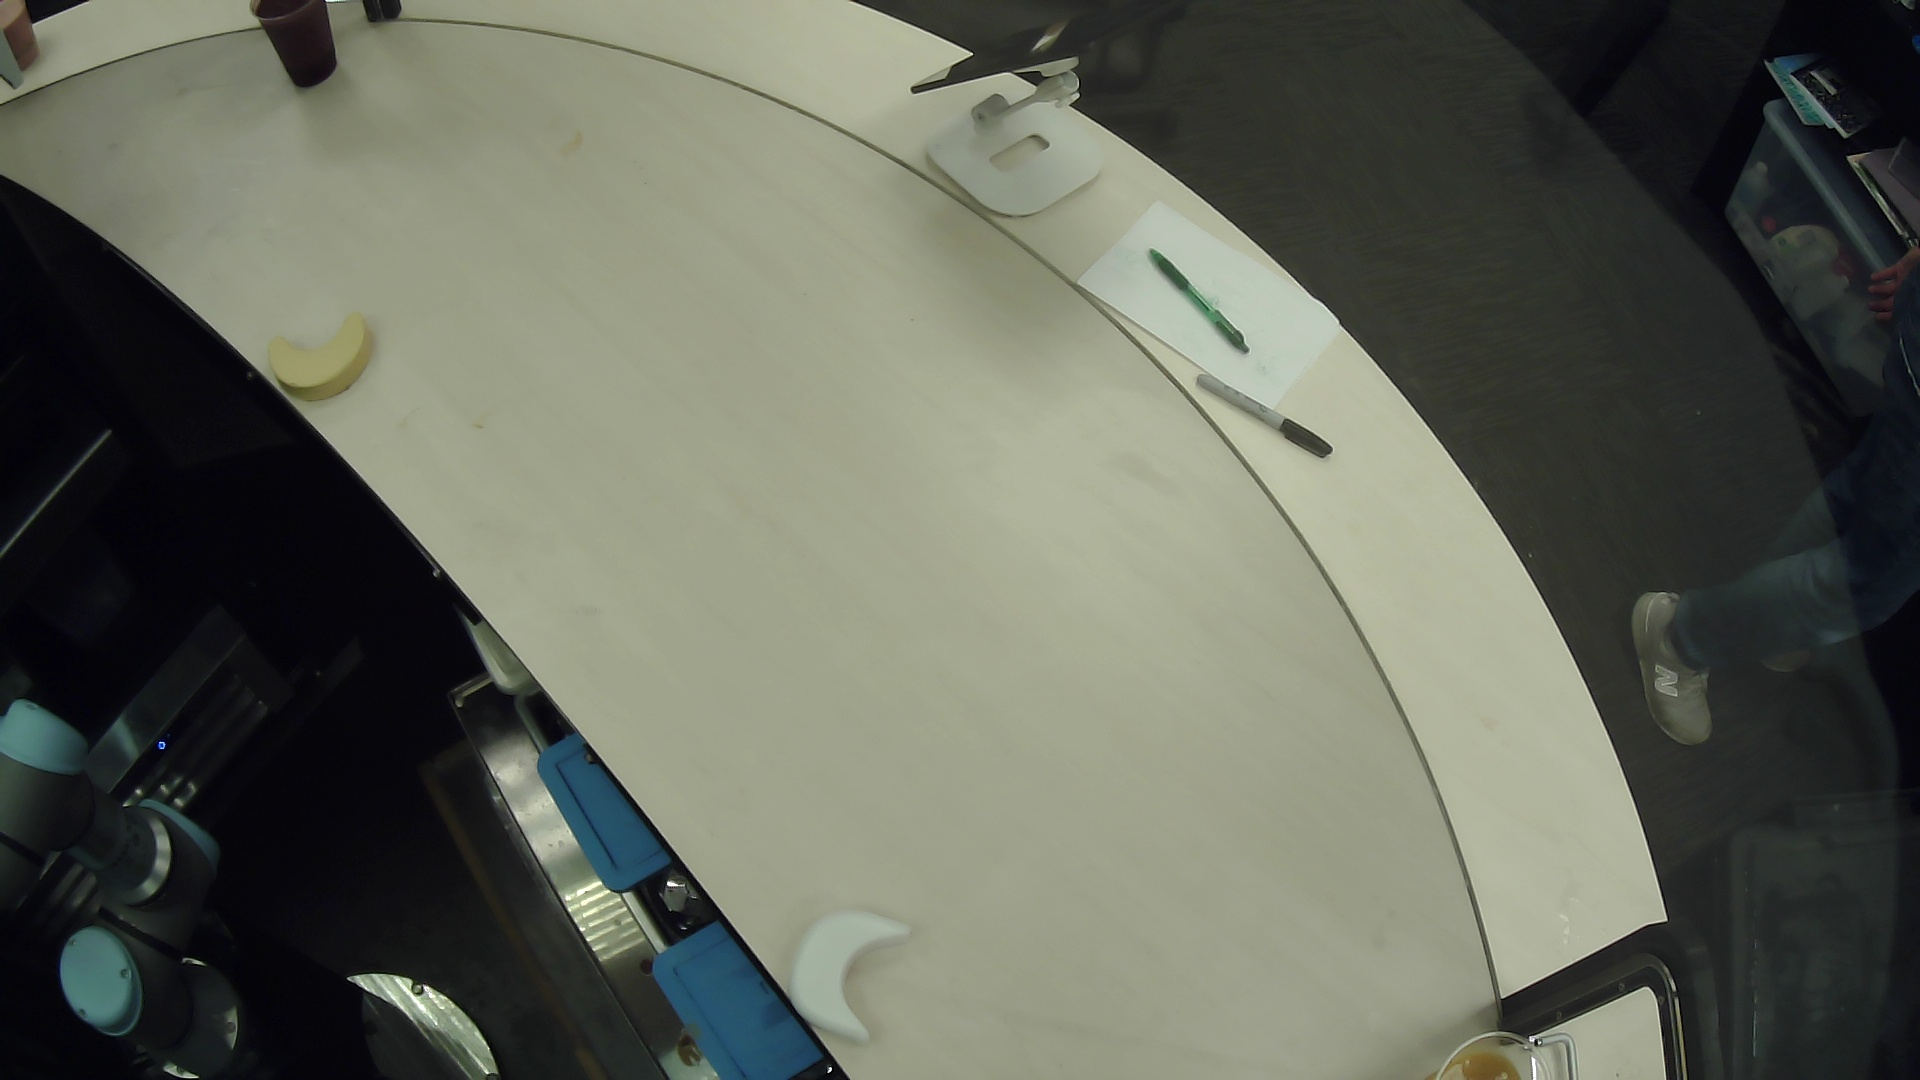Deliver: (775, 889, 940, 1054), (256, 293, 388, 417)
Full_cup: (1374, 989, 1592, 1080), (237, 1, 375, 123)
